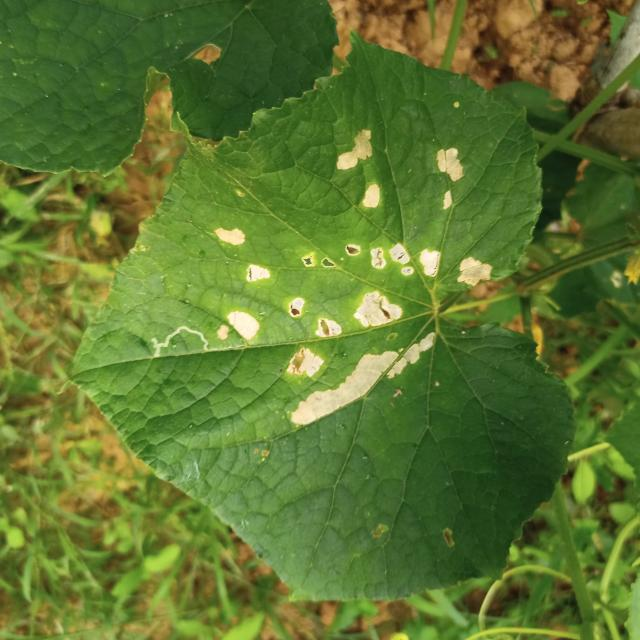disease_cucumber: (279, 287, 439, 428), (296, 225, 498, 291), (209, 220, 274, 348), (335, 124, 386, 215), (432, 130, 468, 216)
